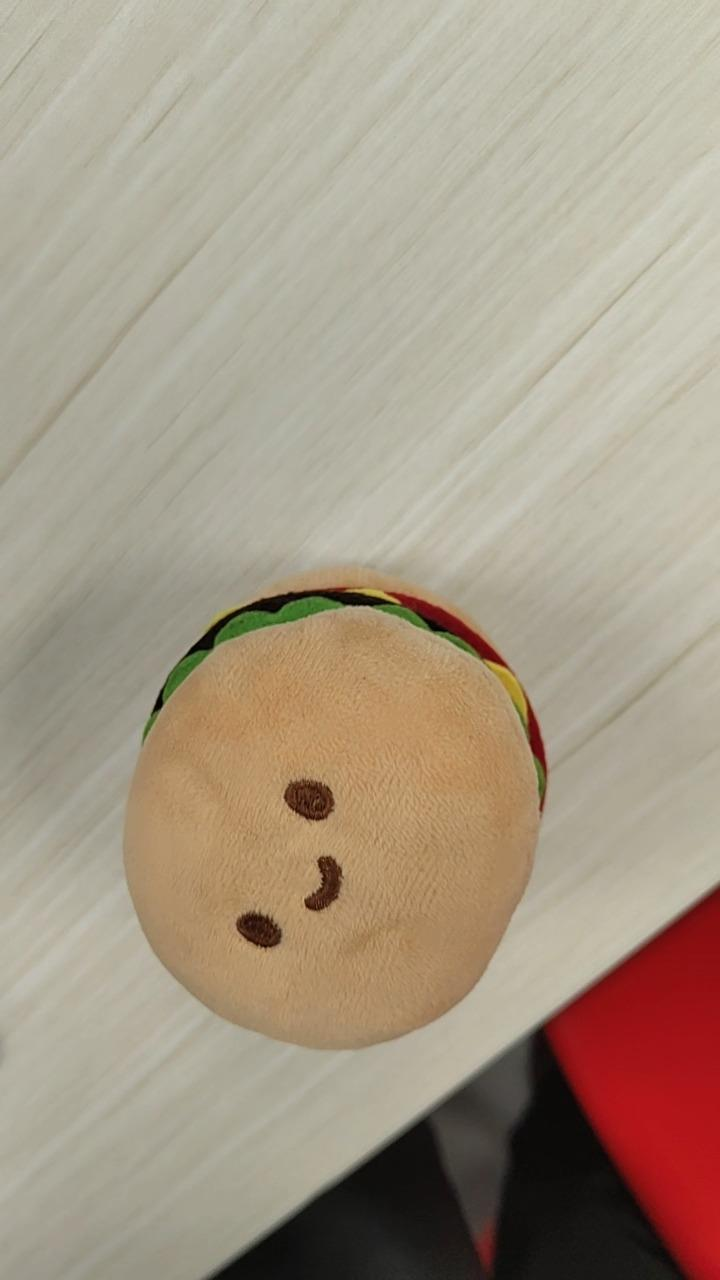hamburger: (120, 564, 549, 1052)
